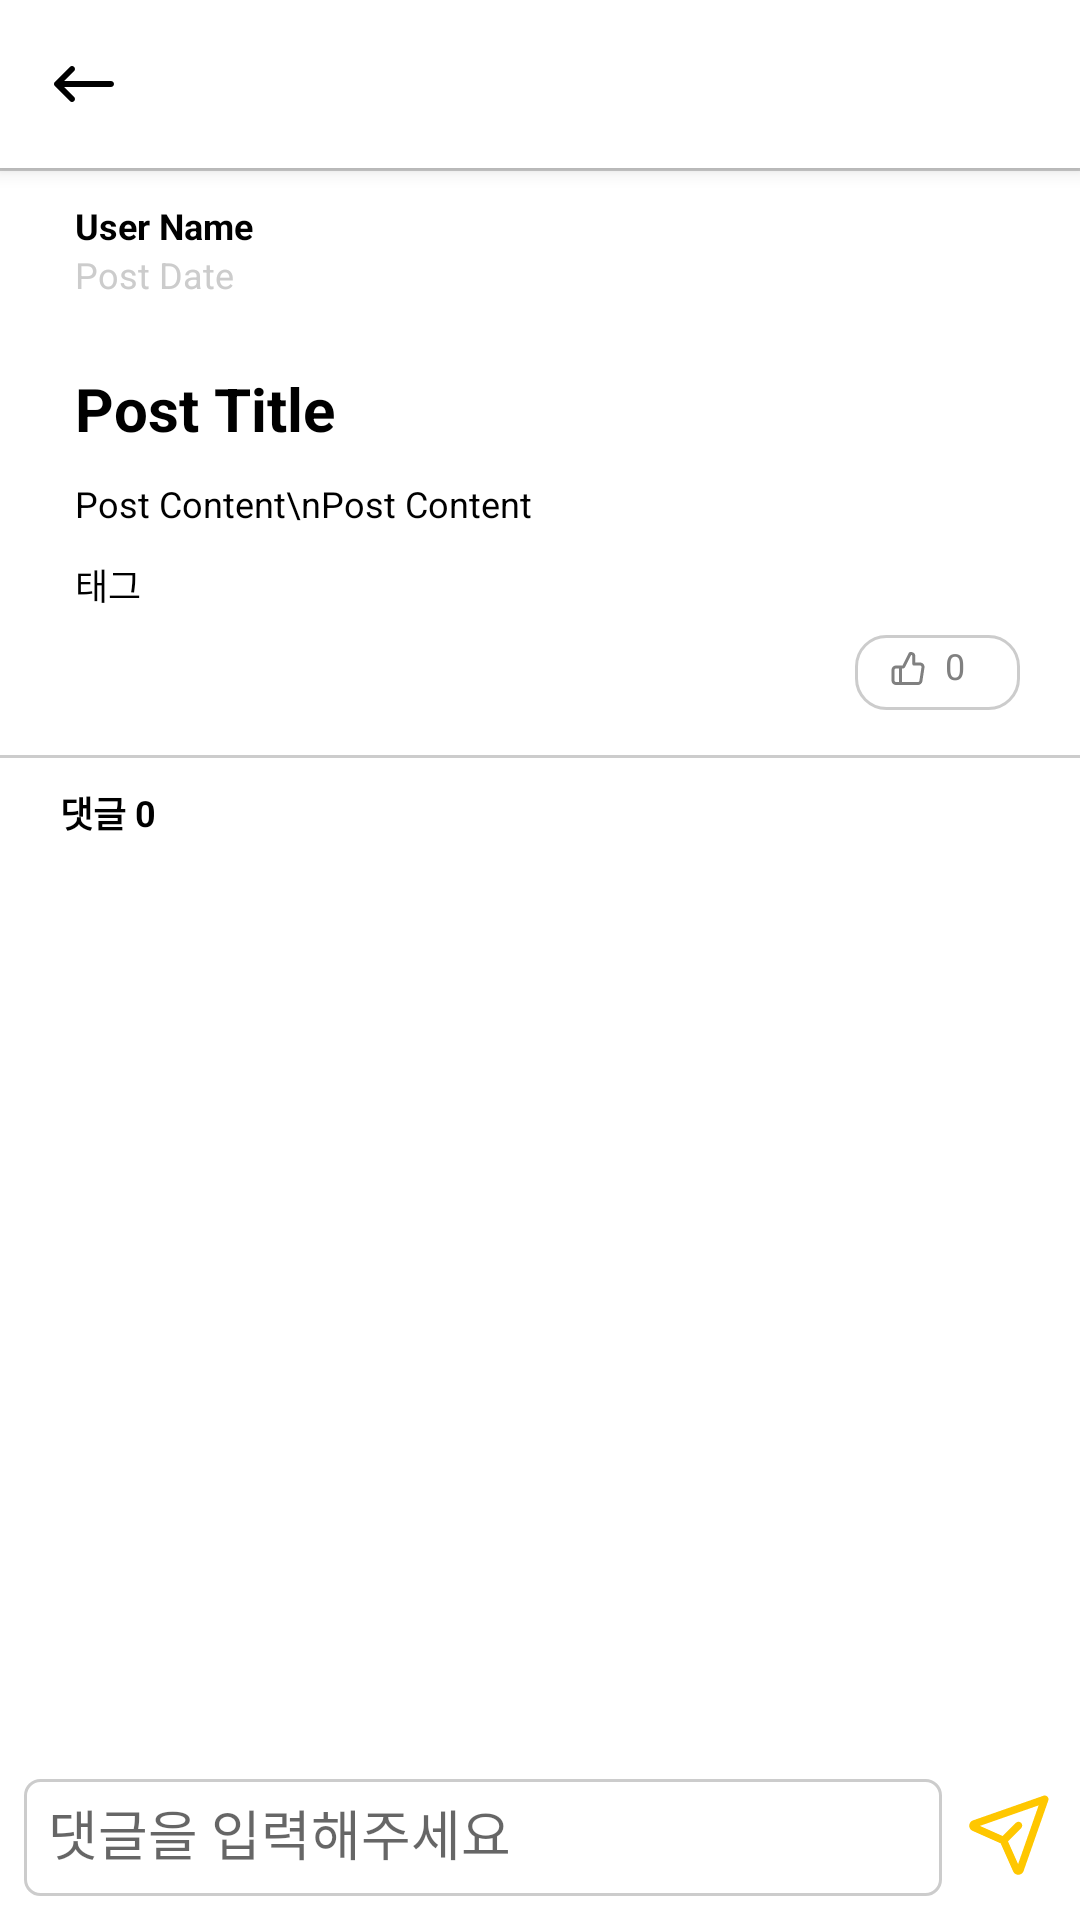

Where icons sit on this 1080 × 1920 app screen, as (x1,y1,x2,y2):
send comment: (969,1795,1049,1875)
thumbs: (855,635,1020,710)
